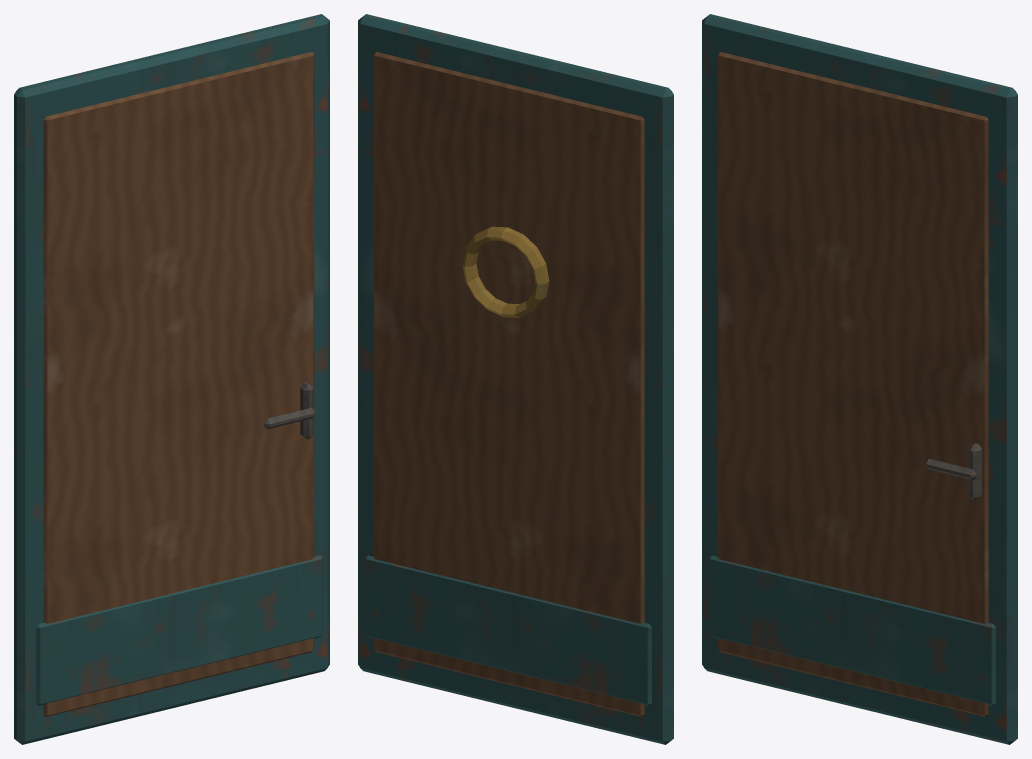
Rendered from WK_DOOR_LEAF_A_01.glb.
3 renders of one model, left to right at view 1: azimuth 30°, elevation 25°; view 2: azimuth 150°, elevation 25°; view 3: azimuth 330°, elevation 25°, orthographic.
Visible parts, largest first — view 1: WK_DOOR_LEAF_A_01; view 2: WK_DOOR_LEAF_A_01; view 3: WK_DOOR_LEAF_A_01.
Part boxes in pixels (x1,y1,x2,y2): WK_DOOR_LEAF_A_01: (14, 14, 329, 744); WK_DOOR_LEAF_A_01: (358, 14, 673, 744); WK_DOOR_LEAF_A_01: (702, 14, 1017, 744).
Bounding box in the file's own units: 1.2 × 2.4 × 0.205.
Materials: 5 (4 with a texture image).
